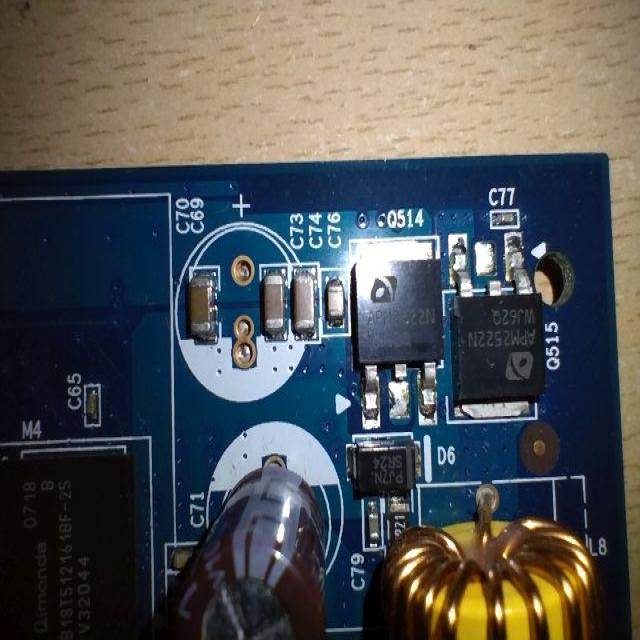capacitor: (186, 267, 222, 345), (292, 268, 322, 343), (321, 271, 350, 334), (261, 271, 288, 338), (360, 504, 381, 543), (486, 211, 518, 228), (85, 383, 98, 422)
